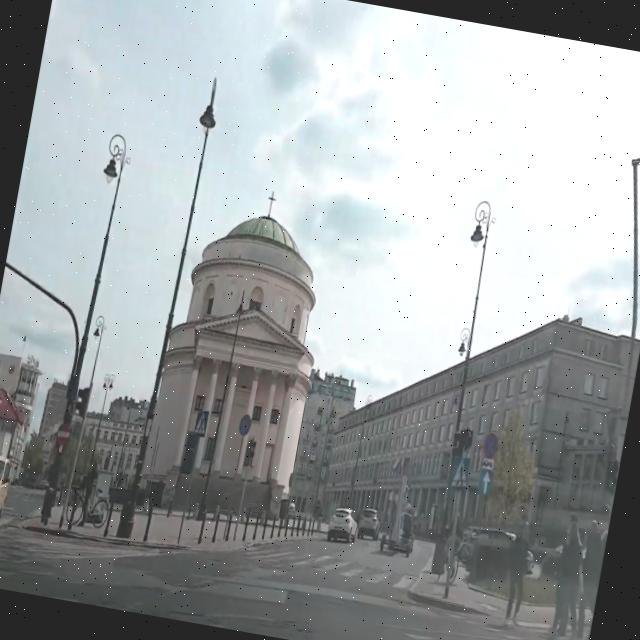Przejscie dla pieszych: (446, 454, 474, 493), (192, 408, 209, 437)
Zakaz wjazdu: (54, 420, 72, 448)
Zakaz zatrzymywania sie: (482, 430, 500, 458), (236, 412, 252, 438)
